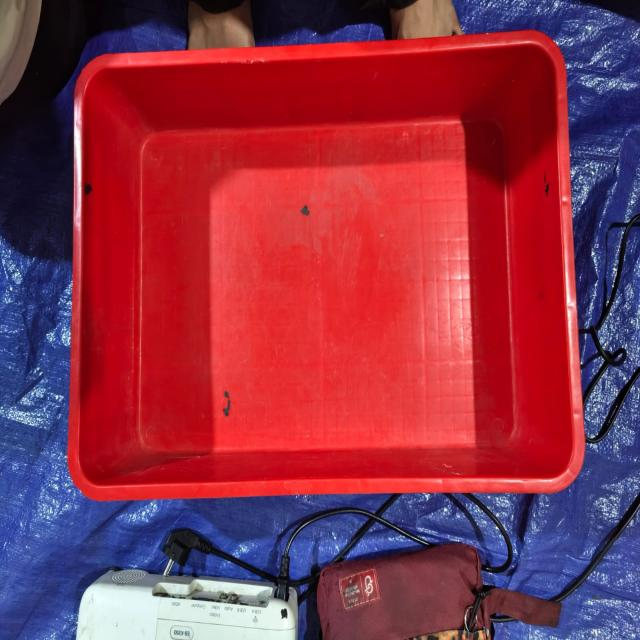red plastic box: (68, 29, 585, 502)
